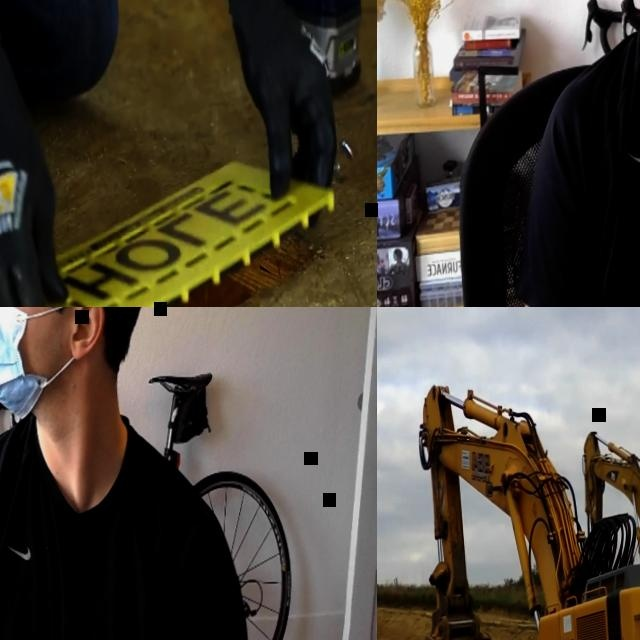Mask: (0, 307, 87, 422)
NO-Safety Vest: (0, 429, 193, 640), (578, 37, 640, 307)
Person: (0, 0, 339, 307), (0, 307, 255, 640), (513, 0, 640, 307)
machinery: (415, 380, 640, 640), (578, 429, 640, 581)
